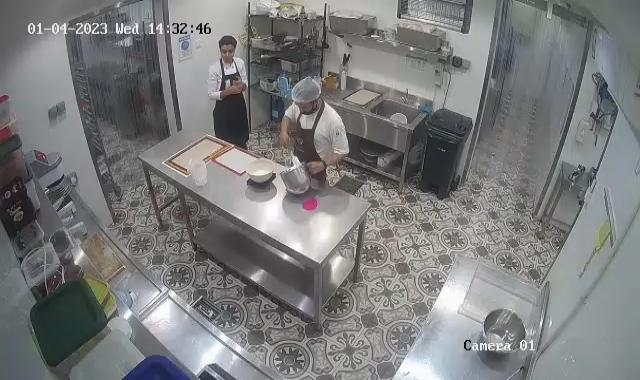hairnet: (289, 76, 322, 106)
no_hairnet: (215, 34, 239, 53)
